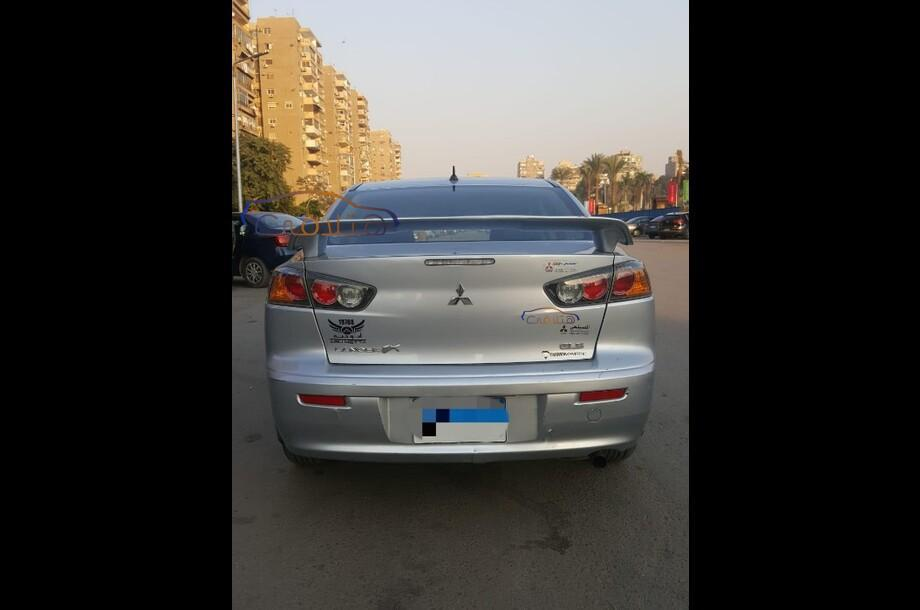Mitsubishi: (435, 274, 484, 314)
